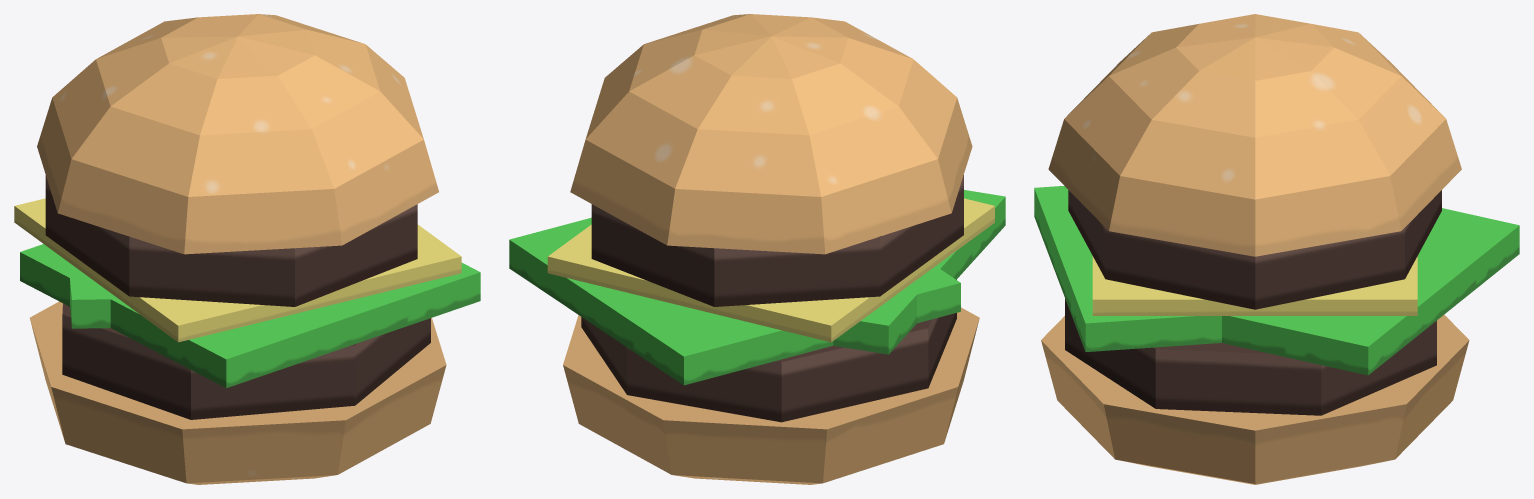
The model's file is Hamburger.fbx.
3 renders of one model, left to right at view 1: azimuth 30°, elevation 25°; view 2: azimuth 150°, elevation 25°; view 3: azimuth 270°, elevation 25°, orthographic.
Visible parts, largest first — view 1: Burger; view 2: Burger; view 3: Burger.
Part boxes in pixels (left/top/right/bottom): Burger: left=14, top=14, right=480, bottom=484; Burger: left=509, top=14, right=1005, bottom=484; Burger: left=1034, top=14, right=1519, bottom=484.
Size of the model in its own units: 7.29 by 7.09 by 7.87.
